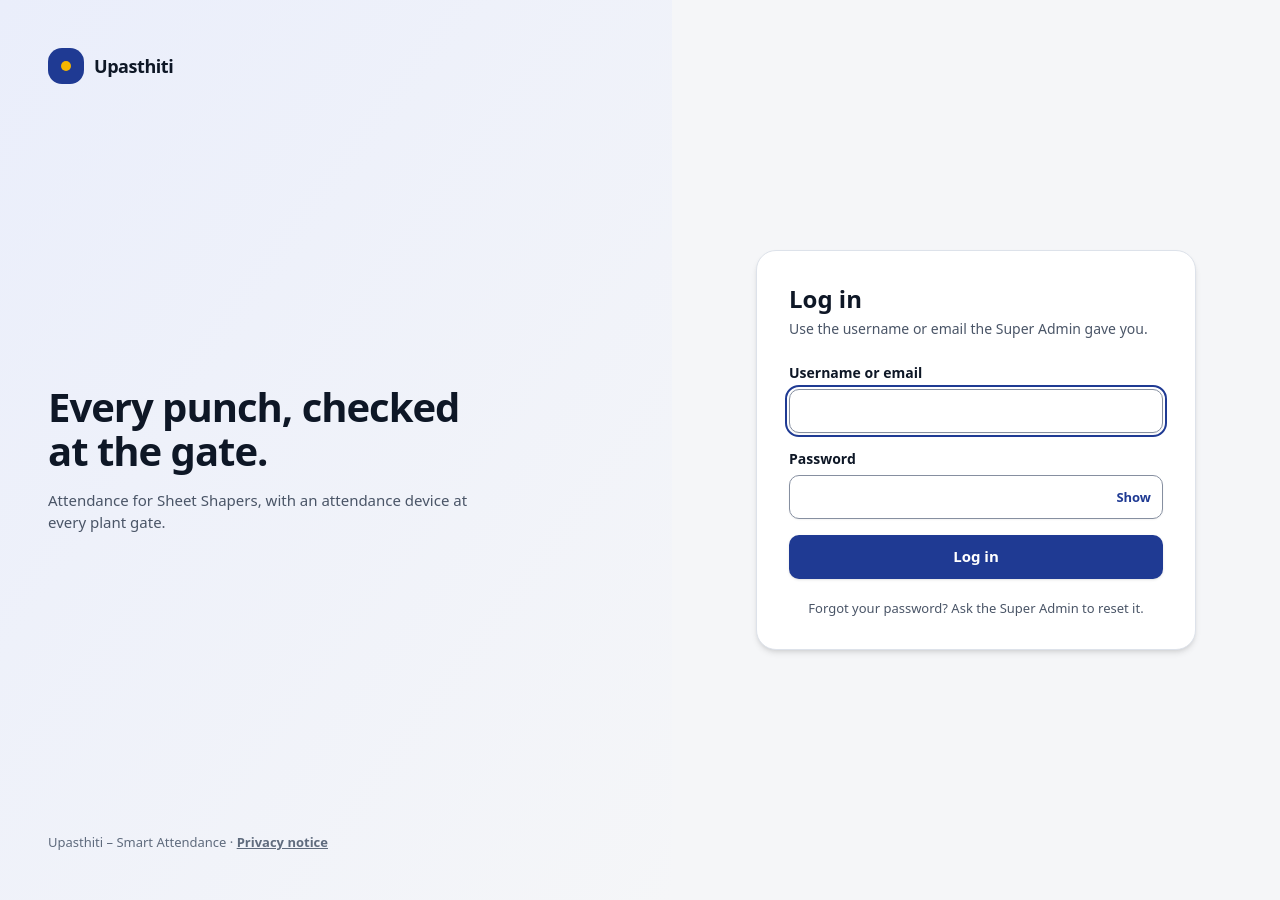
Test: login screen (spec AC-2) › shows one message for a wrong password
Type "tushar" into the field labelled "Username or email" at [976, 411], box x1=789 y1=389 x2=1163 y2=433
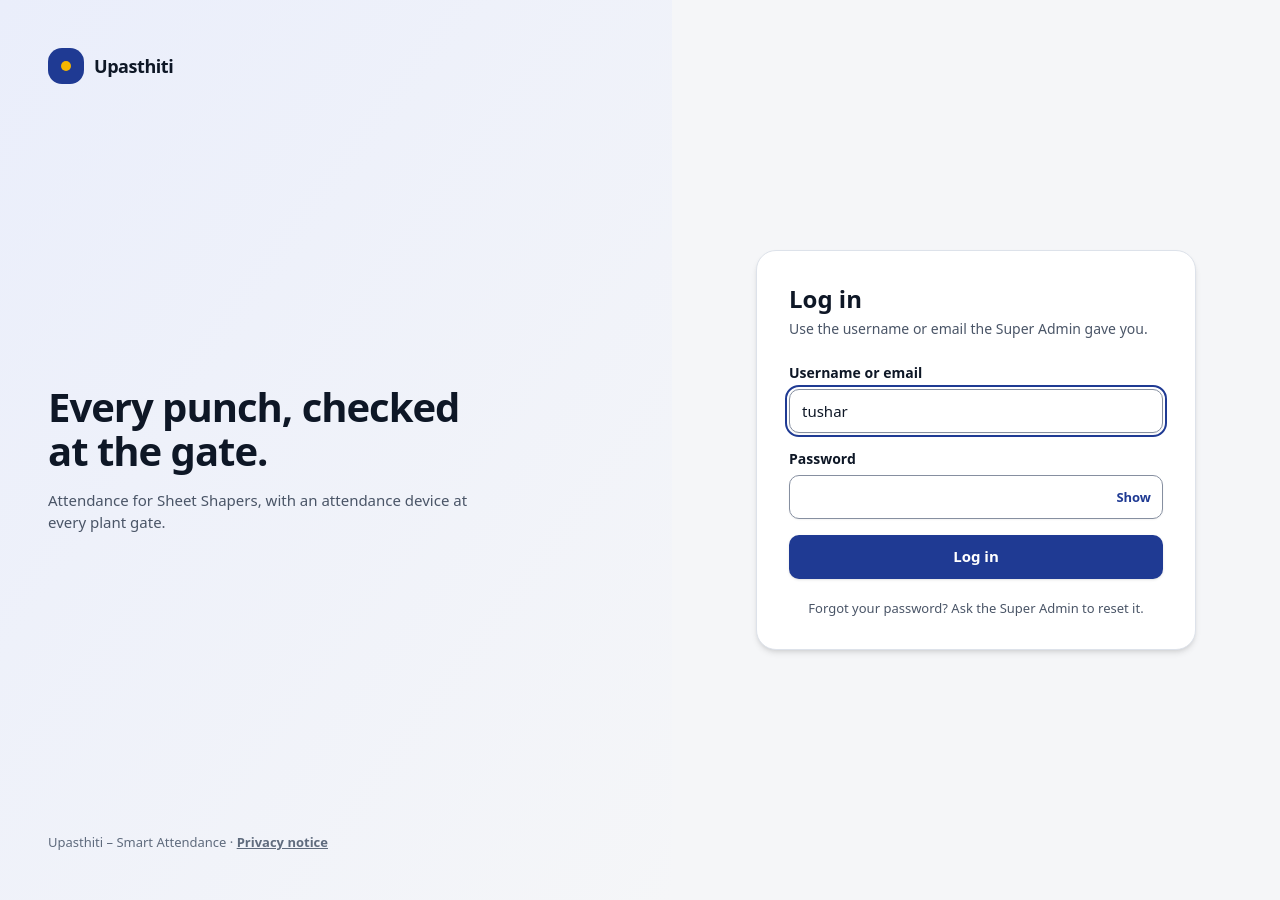
Type "wrong" into the password field labelled "Password" at [976, 497], box x1=789 y1=475 x2=1163 y2=519
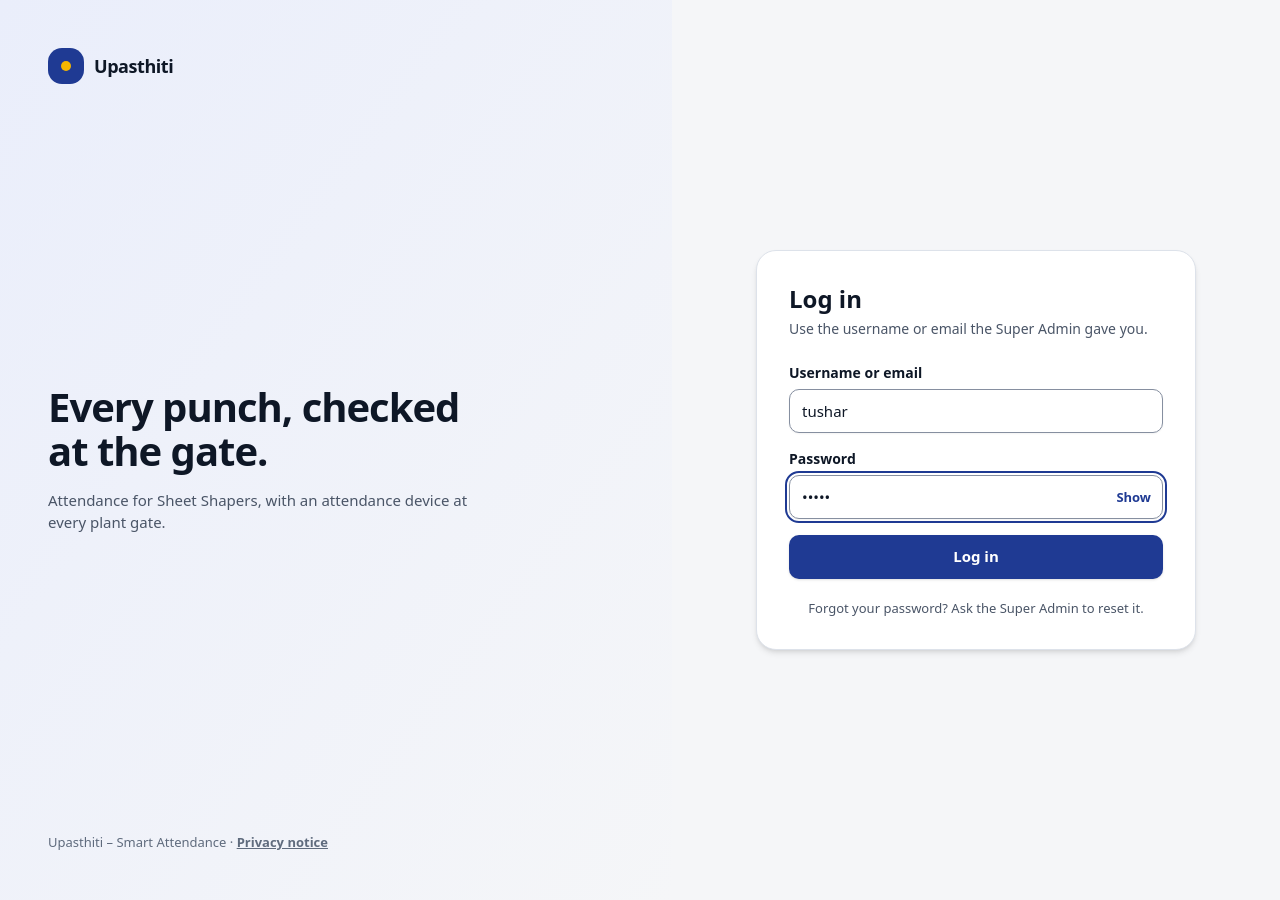
Click the button "Log in" at [976, 557], box x1=789 y1=535 x2=1163 y2=579
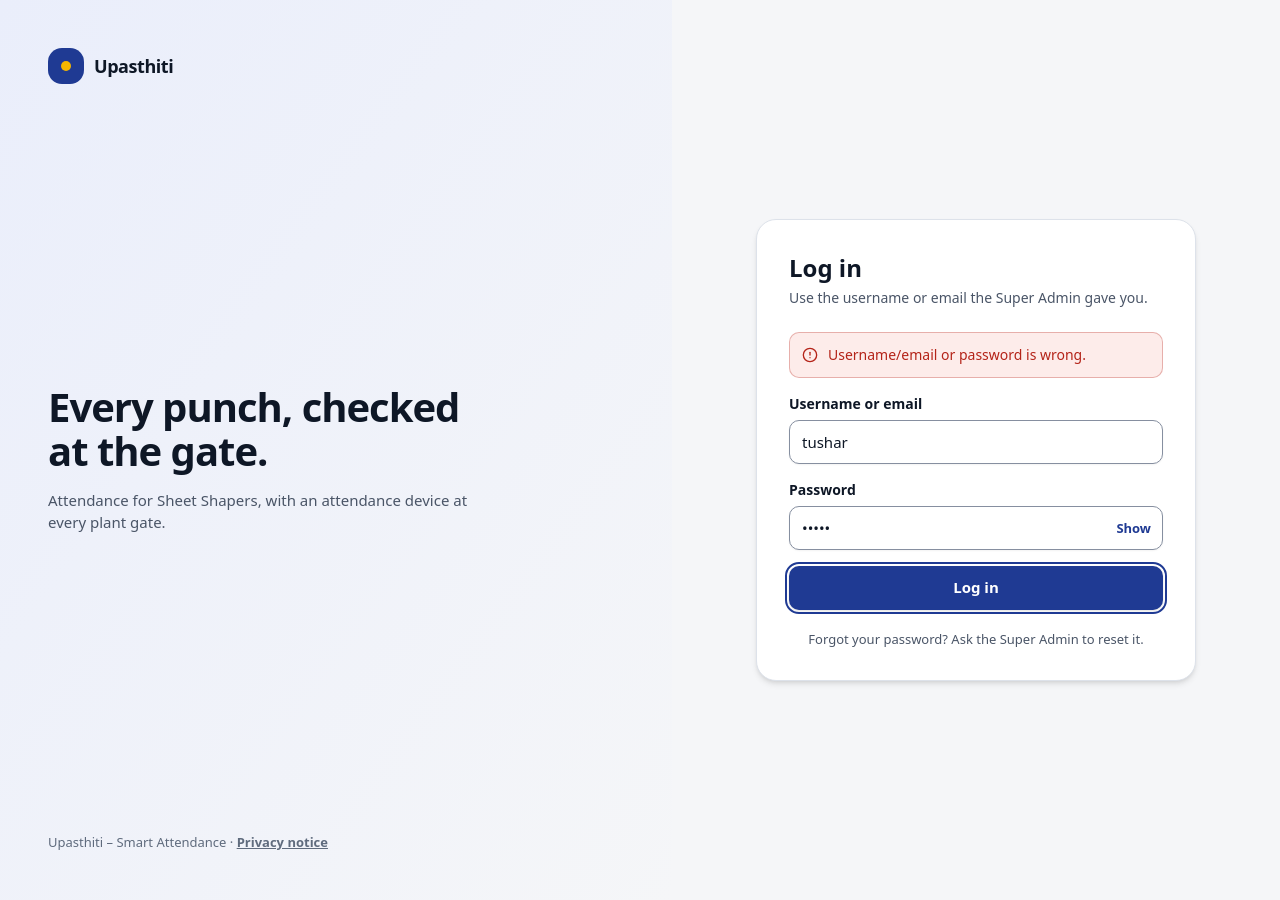
Expected: the message reads "Username/email or password is wrong.", x1=828 y1=345 x2=1086 y2=364
